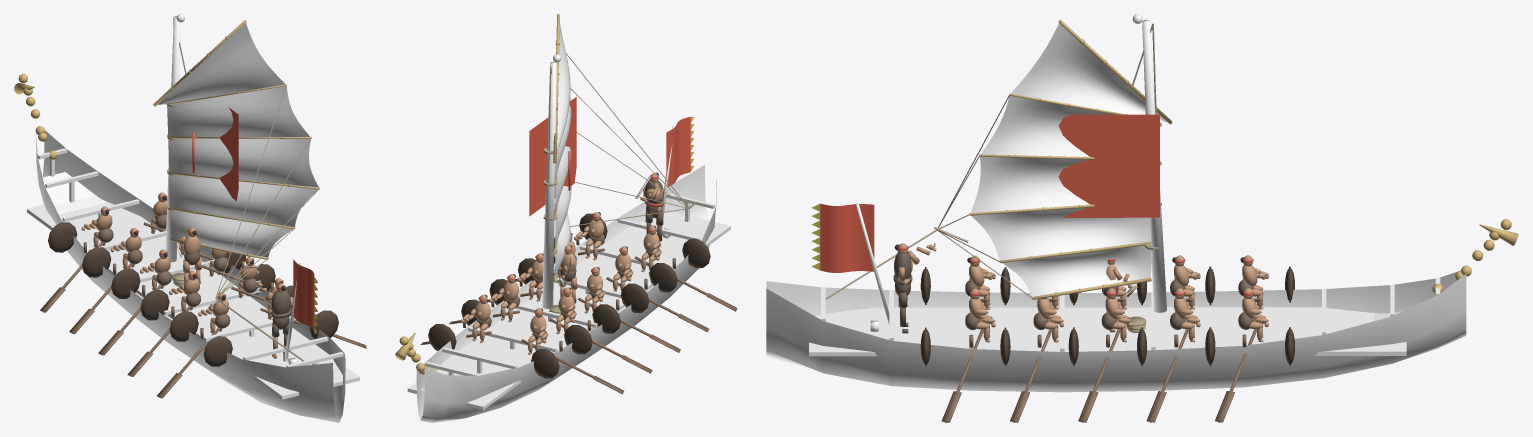
File: thuyen_daiviet_master.glb
The picture shows the model from 3 angles, left to right: view 1: azimuth 30°, elevation 25°; view 2: azimuth 150°, elevation 25°; view 3: azimuth 270°, elevation 25°; orthographic projection. The views are drawn at different scales.
Visible parts, largest first — view 1: Mui_Buom_CanhDoi_PBR, Than_Thuyen_GoLim, Van_San_LongThuyen_Kin, KhienMay_GiaDung_BeThuyen, Khung_Suon_ChiuLuc, Mai_Cheo_KhopTayLinh, Nan_Tre_Va_Ngong_Buom, CoLenh_NguHanh_DuoiThuyen, Day_Leo_Va_Rigging, San_Boong_Thuyen, Crew_Cmd_DV_01_SoaiTienPhong_Ta, CoLenh_NguHanh_DinhBuom (+11 smaller); view 2: Than_Thuyen_GoLim, Van_San_LongThuyen_Kin, KhienMay_GiaDung_BeThuyen, Mui_Buom_CanhDoi_PBR, Khung_Suon_ChiuLuc, CoLenh_NguHanh_DinhBuom, Cot_Buom_GoLim, Mai_Cheo_KhopTayLinh, CoLenh_NguHanh_DuoiThuyen, Day_Leo_Va_Rigging, Crew_Cmd_DV_01_SoaiTienPhong_Ta, Linh_DanhTrong_DV01 (+11 smaller); view 3: Than_Thuyen_GoLim, Mui_Buom_CanhDoi_PBR, Van_San_LongThuyen_Kin, CoLenh_NguHanh_DinhBuom, CoLenh_NguHanh_DuoiThuyen, KhienMay_GiaDung_BeThuyen, Mai_Cheo_KhopTayLinh, Nan_Tre_Va_Ngong_Buom, Cot_Buom_GoLim, Khung_Suon_ChiuLuc, Crew_Cmd_DV_01_SoaiTienPhong_Ta, Day_Leo_Va_Rigging (+9 smaller).
Boxes of the visible parts, box(x1,y1,x2,y2) form: Mui_Buom_CanhDoi_PBR: box(158, 23, 318, 257); Than_Thuyen_GoLim: box(36, 130, 345, 422); Van_San_LongThuyen_Kin: box(27, 200, 359, 399); KhienMay_GiaDung_BeThuyen: box(48, 197, 338, 366); Khung_Suon_ChiuLuc: box(37, 148, 343, 367); Mai_Cheo_KhopTayLinh: box(40, 222, 366, 398); Nan_Tre_Va_Ngong_Buom: box(153, 20, 319, 259); CoLenh_NguHanh_DuoiThuyen: box(285, 259, 317, 364); Day_Leo_Va_Rigging: box(167, 18, 319, 361); San_Boong_Thuyen: box(42, 172, 172, 320); Crew_Cmd_DV_01_SoaiTienPhong_Ta: box(243, 266, 293, 358); CoLenh_NguHanh_DinhBuom: box(192, 107, 238, 200); Than_Thuyen_GoLim: box(416, 165, 716, 422); Van_San_LongThuyen_Kin: box(407, 211, 730, 410); KhienMay_GiaDung_BeThuyen: box(428, 213, 710, 378); Mui_Buom_CanhDoi_PBR: box(555, 24, 571, 278); Khung_Suon_ChiuLuc: box(425, 193, 715, 375); CoLenh_NguHanh_DinhBuom: box(529, 97, 576, 216); Cot_Buom_GoLim: box(542, 54, 561, 308); Mai_Cheo_KhopTayLinh: box(420, 235, 737, 394); CoLenh_NguHanh_DuoiThuyen: box(662, 116, 693, 238); Day_Leo_Va_Rigging: box(543, 53, 696, 254); Crew_Cmd_DV_01_SoaiTienPhong_Ta: box(635, 172, 663, 247); Linh_DanhTrong_DV01: box(553, 245, 577, 308); Than_Thuyen_GoLim: box(766, 270, 1466, 392); Mui_Buom_CanhDoi_PBR: box(970, 23, 1166, 297); Van_San_LongThuyen_Kin: box(809, 307, 1406, 356); CoLenh_NguHanh_DinhBuom: box(1058, 114, 1159, 217); CoLenh_NguHanh_DuoiThuyen: box(811, 203, 889, 331); KhienMay_GiaDung_BeThuyen: box(920, 266, 1294, 365); Mai_Cheo_KhopTayLinh: box(941, 278, 1261, 422); Nan_Tre_Va_Ngong_Buom: box(969, 20, 1172, 299); Cot_Buom_GoLim: box(1132, 14, 1167, 312); Khung_Suon_ChiuLuc: box(821, 278, 1440, 351); Crew_Cmd_DV_01_SoaiTienPhong_Ta: box(893, 227, 968, 333); Day_Leo_Va_Rigging: box(825, 23, 1161, 299).
Size of the model in its own units: 5.45 by 8.13 by 14.54.
